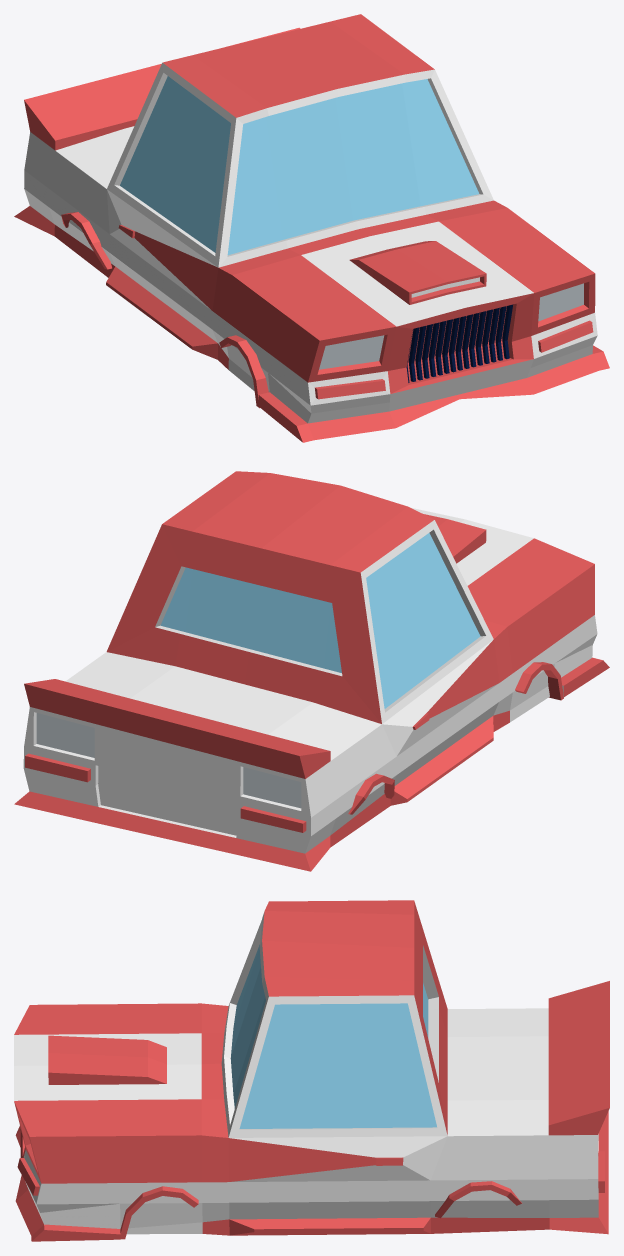
The model's file is Low-Poly-Racing-Car_CHASSIS.glb.
3 renders of one model, top to bottom at view 1: azimuth 30°, elevation 25°; view 2: azimuth 150°, elevation 25°; view 3: azimuth 270°, elevation 25°, orthographic.
Parts seen in each view (by area): view 1: body, lattice.1, headlight, front_fender, rear_fender; view 2: body, backlight, front_fender, rear_fender; view 3: body, front_fender, rear_fender.
Part boxes in pixels (bbox=[...]): body: bbox=[14, 14, 609, 442]; lattice.1: bbox=[406, 304, 513, 382]; headlight: bbox=[319, 283, 583, 369]; front_fender: bbox=[219, 335, 268, 408]; rear_fender: bbox=[61, 212, 111, 269]; body: bbox=[14, 471, 609, 871]; backlight: bbox=[36, 713, 301, 808]; front_fender: bbox=[515, 662, 563, 700]; rear_fender: bbox=[348, 773, 394, 814]; body: bbox=[14, 900, 609, 1241]; front_fender: bbox=[120, 1186, 198, 1239]; rear_fender: bbox=[435, 1181, 522, 1218].
Bounding box in the file's own units: 1.38 × 0.9986 × 2.36.
